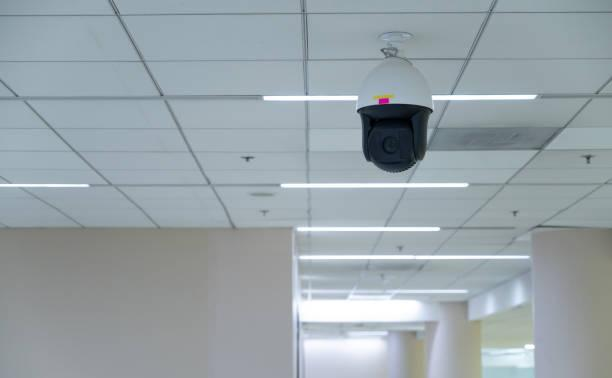camera: (331, 20, 442, 186)
